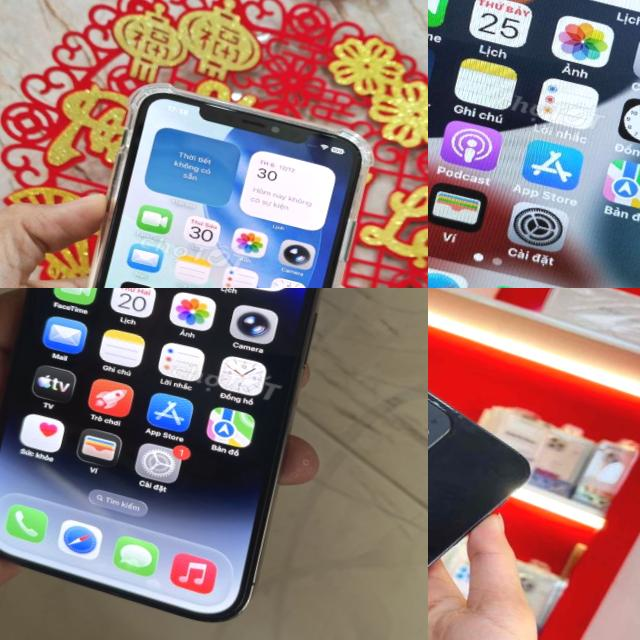gen_11: (21, 62, 388, 288)
gen_12_13: (428, 332, 546, 640)
gen_14: (0, 288, 364, 636)
gen_6: (428, 0, 640, 288)
